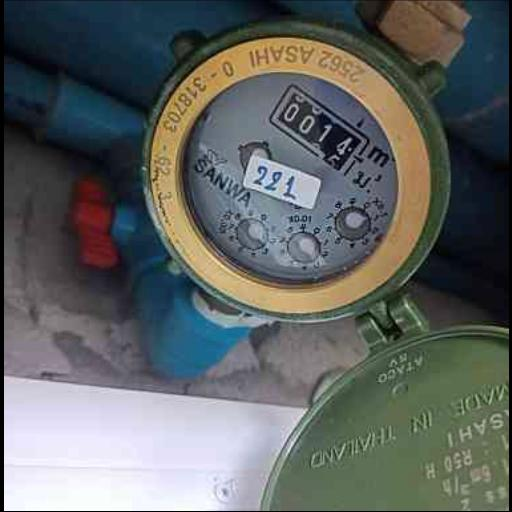0: (290, 104, 326, 143), (275, 93, 309, 130)
1: (307, 116, 343, 155)
4: (321, 128, 361, 172)
border_water_meter_number: (264, 82, 372, 177)
